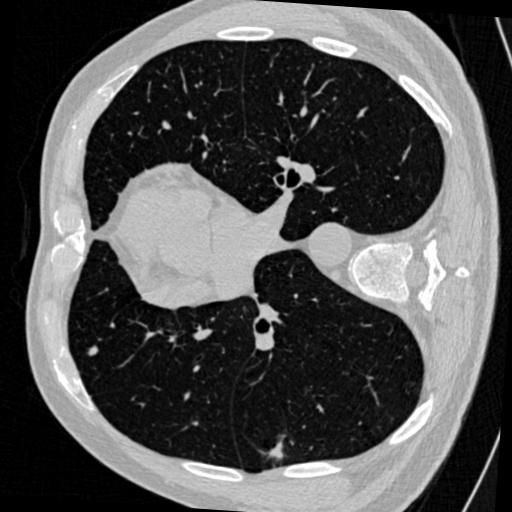nodule: (87, 346, 101, 360)
